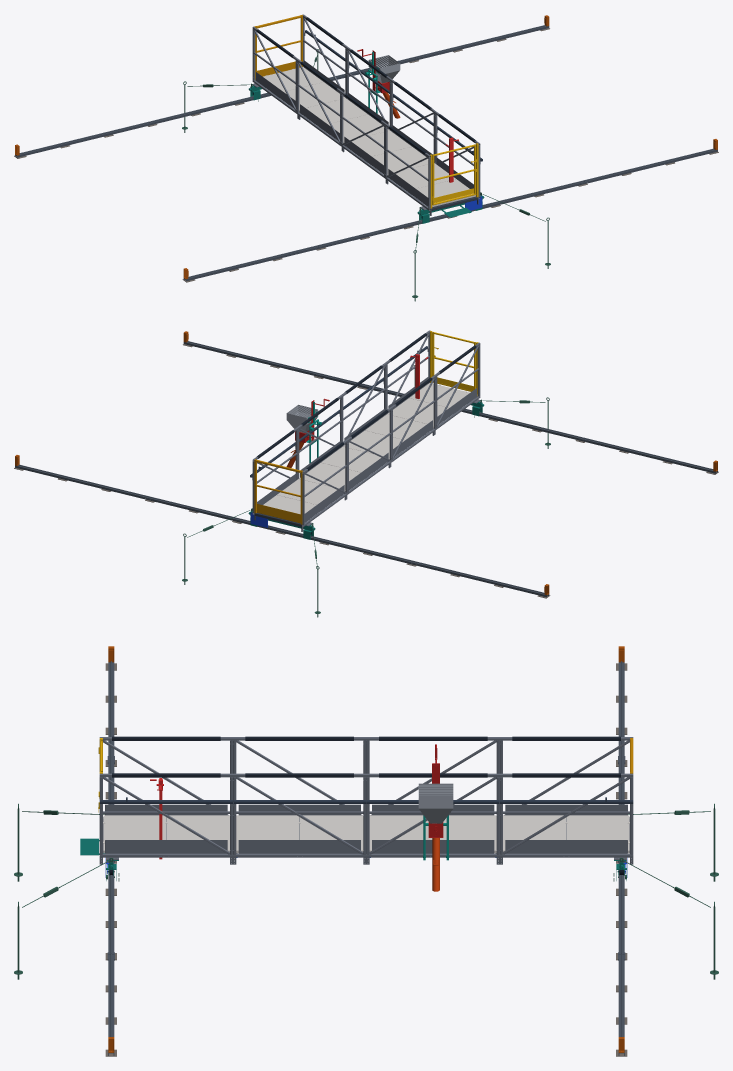
3 renders of one model, top to bottom at view 1: azimuth 30°, elevation 25°; view 2: azimuth 150°, elevation 25°; view 3: azimuth 270°, elevation 25°, orthographic. The views are drawn at different scales.
Visible parts, largest first — view 1: Insulated floor panels (8), Track modules with fishplates, Side truss A modules (4), Side truss B modules (4), Heat-resistant grip sleeves, Outer end gate, Inner end rail, Storm clamps and tie-downs, Carriage rail with brackets, Fuel hopper with grille; view 2: Insulated floor panels (8), Track modules with fishplates, Side truss A modules (4), Side truss B modules (4), Heat-resistant grip sleeves, Inner end rail, Outer end gate, Storm clamps and tie-downs, Carriage rail with brackets, Fuel hopper with grille, Levelling pads; view 3: Side truss B modules (4), Insulated floor panels (8), Side truss A modules (4), Heat-resistant grip sleeves, Track modules with fishplates, Carriage rail with brackets, Storm clamps and tie-downs, Fuel hopper with grille, Levelling pads.
Part boxes in pixels (bbox=[...]): Insulated floor panels (8): bbox=[255, 67, 475, 206]; Track modules with fishplates: bbox=[15, 25, 717, 281]; Side truss A modules (4): bbox=[252, 26, 431, 215]; Side truss B modules (4): bbox=[302, 14, 482, 203]; Heat-resistant grip sleeves: bbox=[256, 17, 475, 154]; Outer end gate: bbox=[430, 143, 478, 208]; Inner end rail: bbox=[254, 15, 302, 79]; Storm clamps and tie-downs: bbox=[182, 49, 550, 301]; Carriage rail with brackets: bbox=[305, 30, 482, 161]; Fuel hopper with grille: bbox=[368, 55, 400, 83]; Insulated floor panels (8): bbox=[263, 383, 477, 514]; Track modules with fishplates: bbox=[15, 341, 717, 597]; Side truss A modules (4): bbox=[301, 342, 480, 531]; Side truss B modules (4): bbox=[250, 330, 430, 519]; Heat-resistant grip sleeves: bbox=[257, 333, 476, 470]; Inner end rail: bbox=[254, 459, 302, 524]; Outer end gate: bbox=[430, 331, 478, 395]; Storm clamps and tie-downs: bbox=[182, 365, 550, 617]; Carriage rail with brackets: bbox=[250, 346, 427, 477]; Fuel hopper with grille: bbox=[286, 404, 318, 433]; Levelling pads: bbox=[14, 344, 718, 598]; Side truss B modules (4): bbox=[99, 773, 633, 864]; Insulated floor panels (8): bbox=[103, 815, 629, 853]; Side truss A modules (4): bbox=[99, 737, 633, 818]; Heat-resistant grip sleeves: bbox=[112, 736, 620, 777]; Track modules with fishplates: bbox=[107, 661, 625, 1055]; Carriage rail with brackets: bbox=[99, 797, 633, 803]; Storm clamps and tie-downs: bbox=[14, 803, 718, 979]; Fuel hopper with grille: bbox=[418, 783, 453, 823]; Levelling pads: bbox=[105, 663, 627, 1056].
Size of the model in its own units: 12.02 by 2.81 by 9.12.
